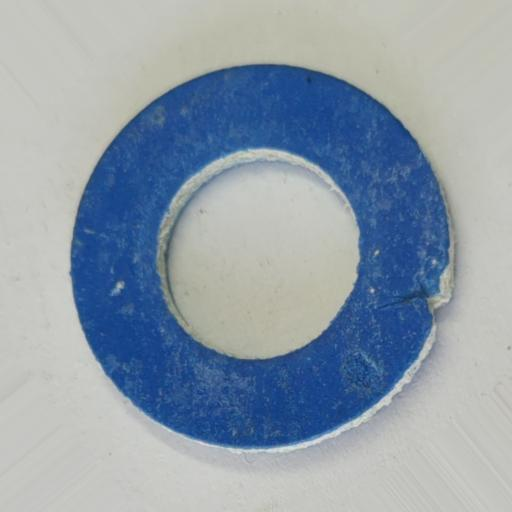defect: (375, 242, 456, 330)
